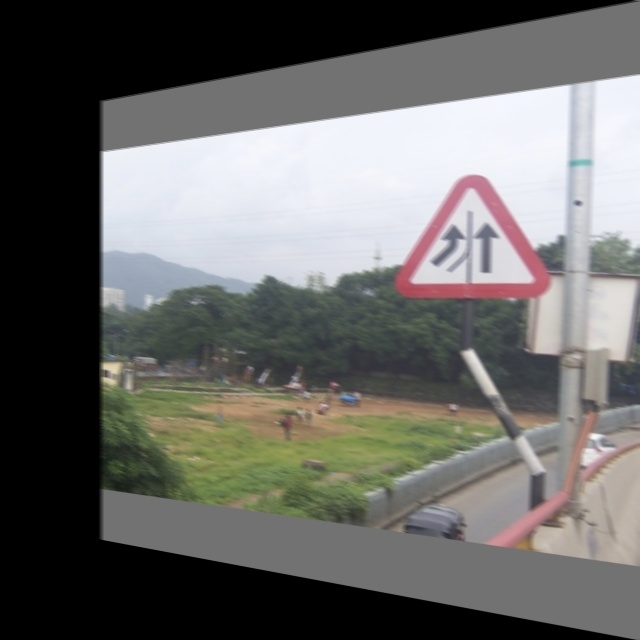Merge_Traffic_Ahead: (399, 164, 552, 305)
